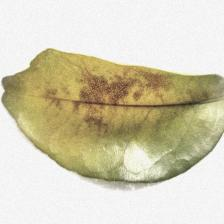canker: (67, 60, 173, 132)
